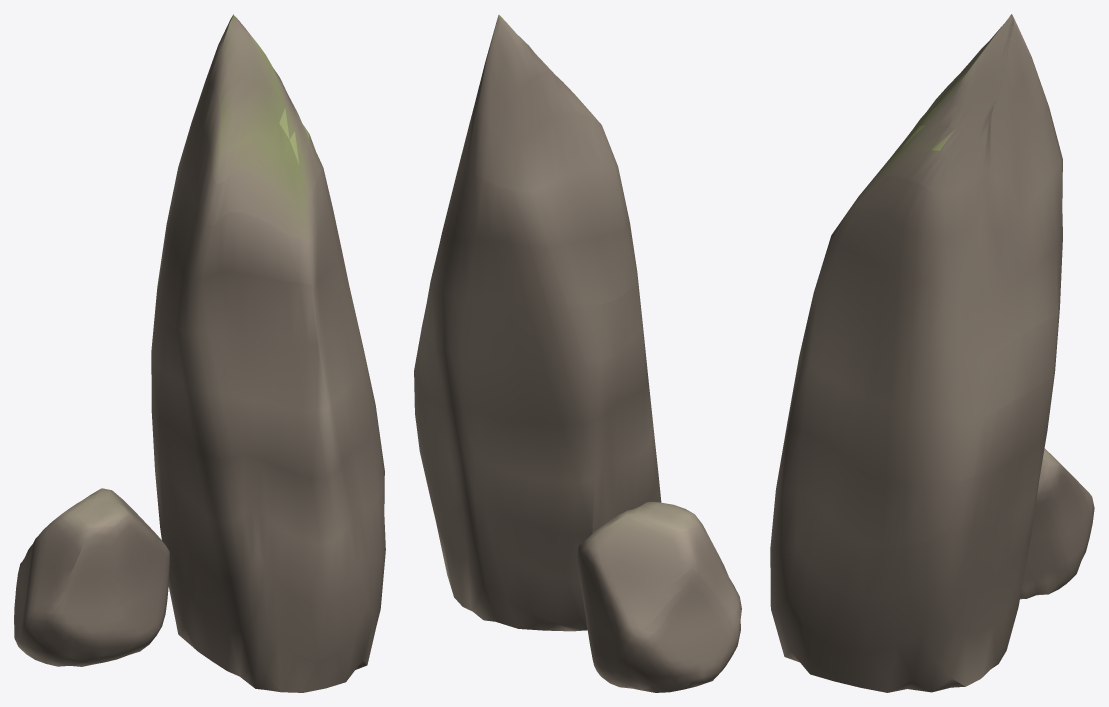
Rendered from rock_b.glb.
3 renders of one model, left to right at view 1: azimuth 30°, elevation 25°; view 2: azimuth 150°, elevation 25°; view 3: azimuth 270°, elevation 25°, orthographic. The views are drawn at different scales.
Visible parts, largest first — view 1: rock_b; view 2: rock_b; view 3: rock_b.
Part boxes in pixels (<box>): rock_b: <box>14,14,385,692</box>; rock_b: <box>414,15,741,692</box>; rock_b: <box>770,14,1094,692</box>.
Bounding box in the file's own units: 1.75 × 3.02 × 1.39.
